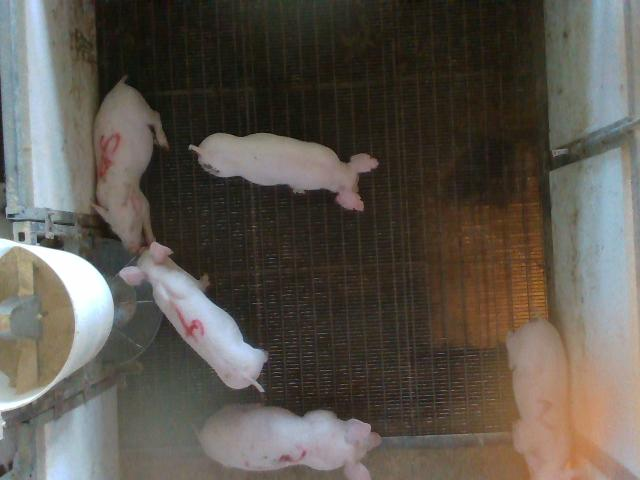pig-2: (506, 319, 604, 479)
pig-3: (198, 404, 381, 479)
pig-4: (120, 243, 268, 391)
pig-5: (94, 76, 169, 252)
